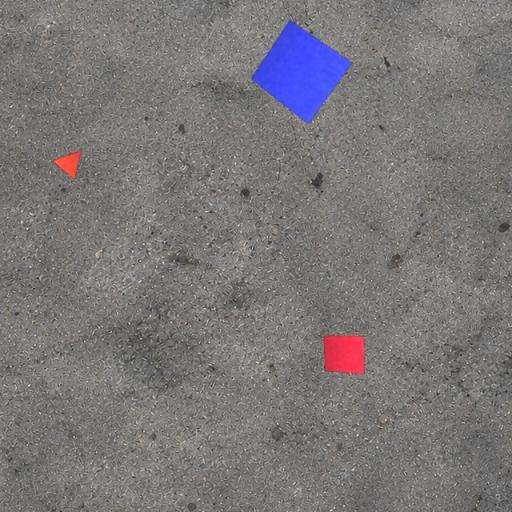BLUE_SQUARE: (250, 19, 353, 125)
RED_SQUARE: (323, 335, 365, 375)
